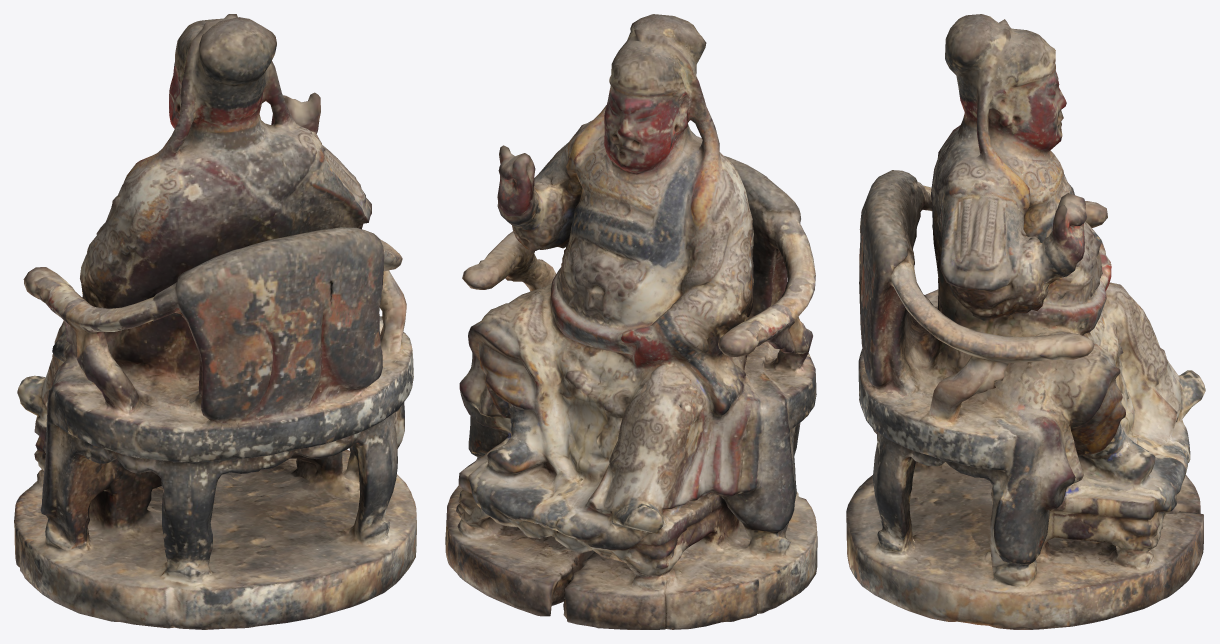
Rendered from MTY002053.glb.
The picture shows the model from 3 angles, left to right: view 1: azimuth 30°, elevation 25°; view 2: azimuth 150°, elevation 25°; view 3: azimuth 270°, elevation 25°; orthographic projection. The views are drawn at different scales.
Parts seen in each view (by area): view 1: MTY002053.002; view 2: MTY002053.002; view 3: MTY002053.002.
Part boxes in pixels (x1,y1,x2,y2): MTY002053.002: (14,14,416,629); MTY002053.002: (445,14,817,629); MTY002053.002: (846,14,1205,629).
Size of the model in its own units: 38.8 by 58.44 by 35.96.
Materials: 1 (1 with a texture image).
